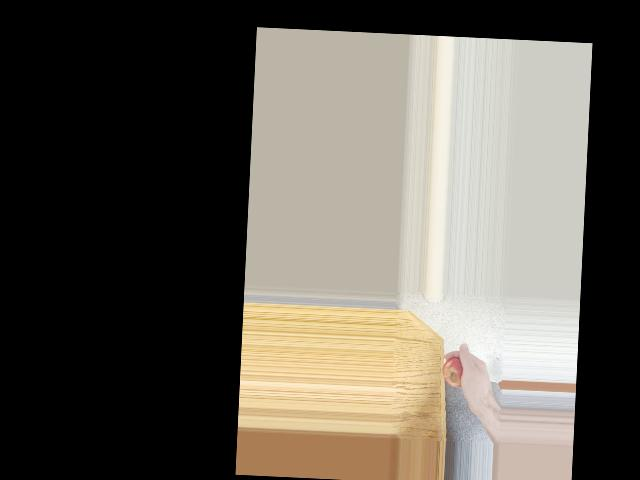apple: (442, 357, 471, 388)
